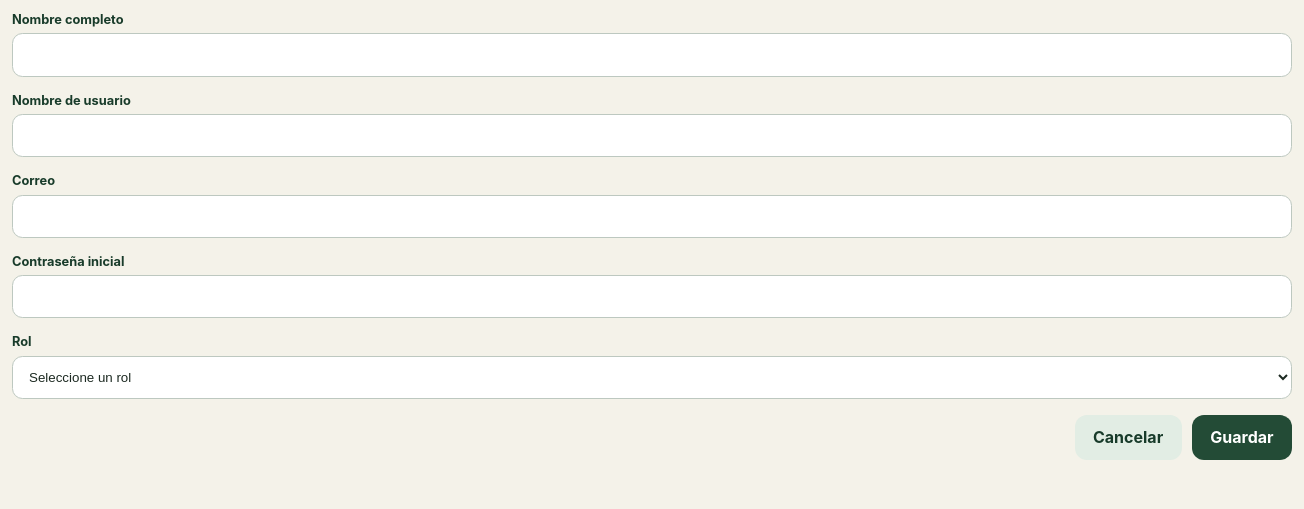
FormularioUsuario › asocia un conflicto de correo con el campo correo
Type "Usuario Prueba" into the field labelled "Nombre completo".
click(652, 55); type("Usuario Prueba")  # box [12,33,1292,77]
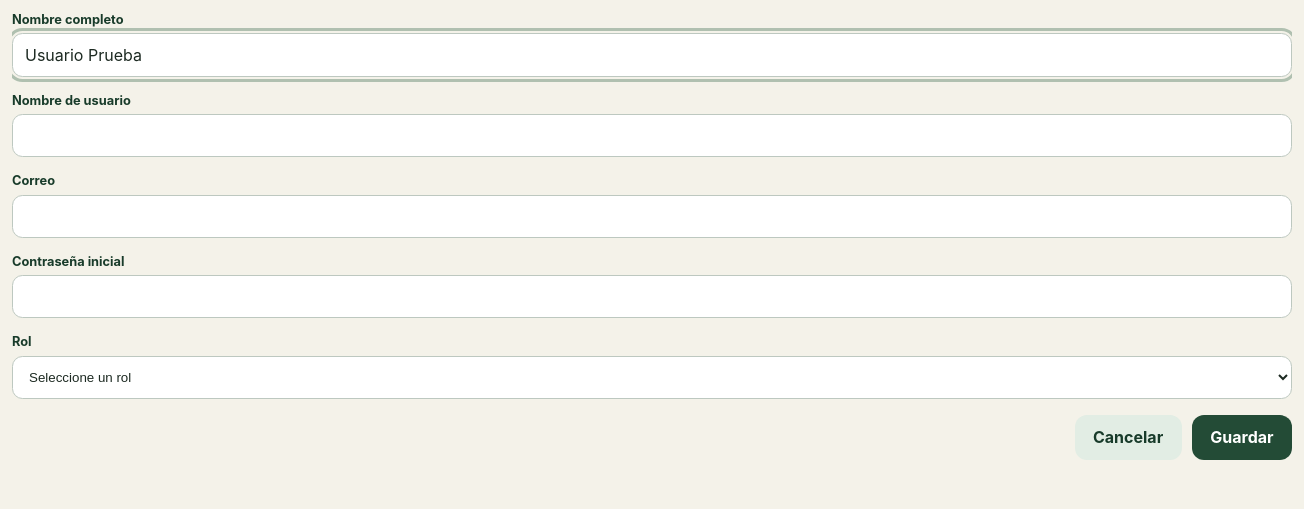
Type "usuario.prueba" into the field labelled "Nombre de usuario".
click(652, 136); type("usuario.prueba")  # box [12,114,1292,157]
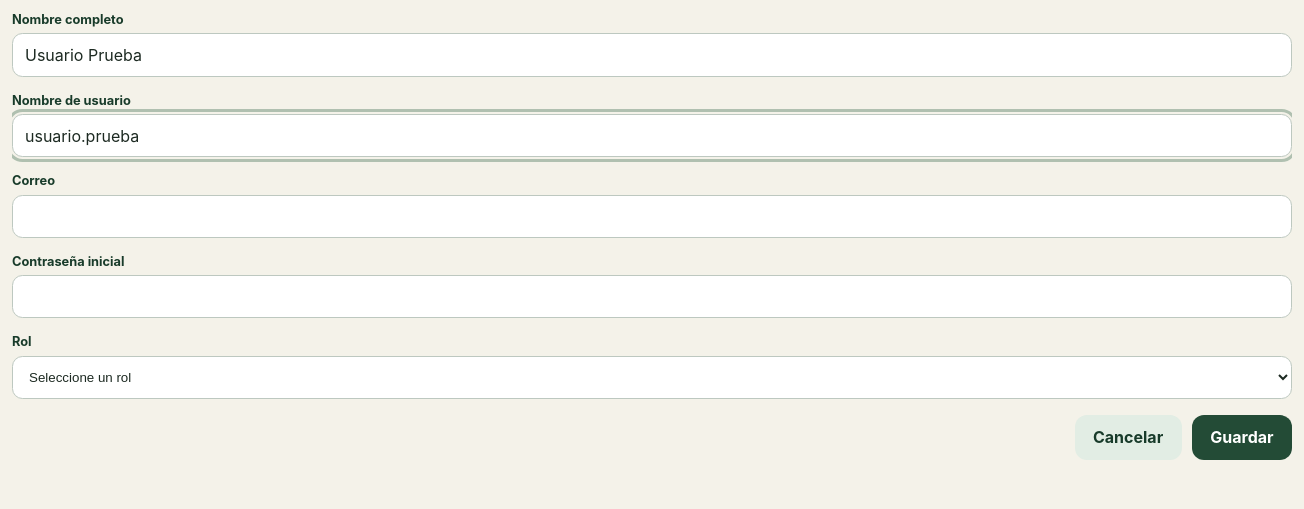
Type "usuario@example.test" into the field labelled "Correo".
click(652, 216); type("usuario@example.test")  # box [12,194,1292,238]
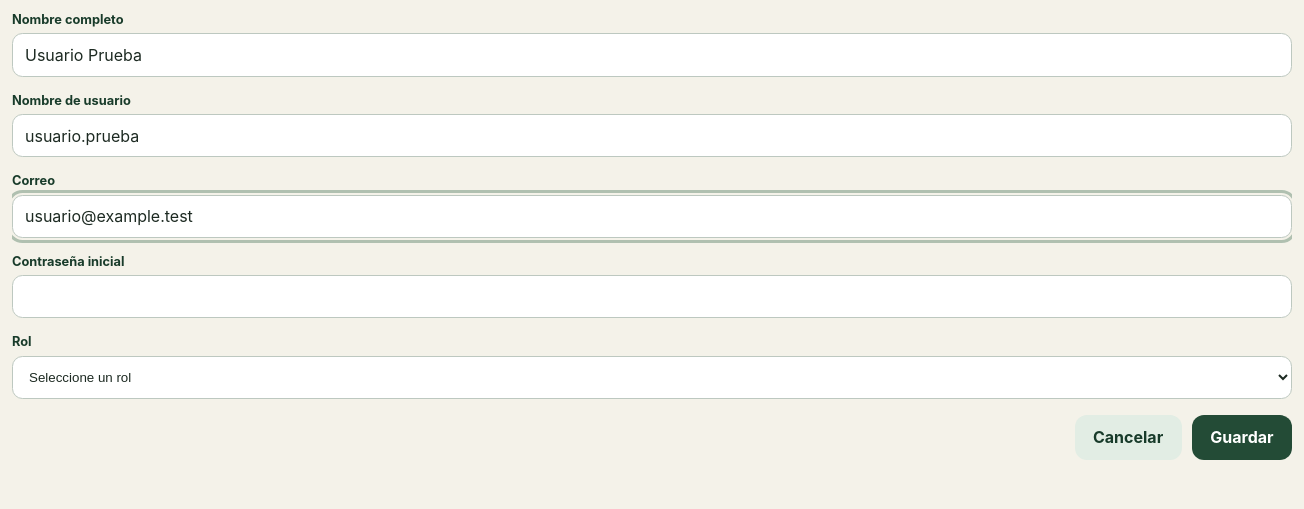
Type "contrasena-segura" into the password field labelled "Contraseña inicial".
click(652, 297); type("contrasena-segura")  # box [12,275,1292,318]
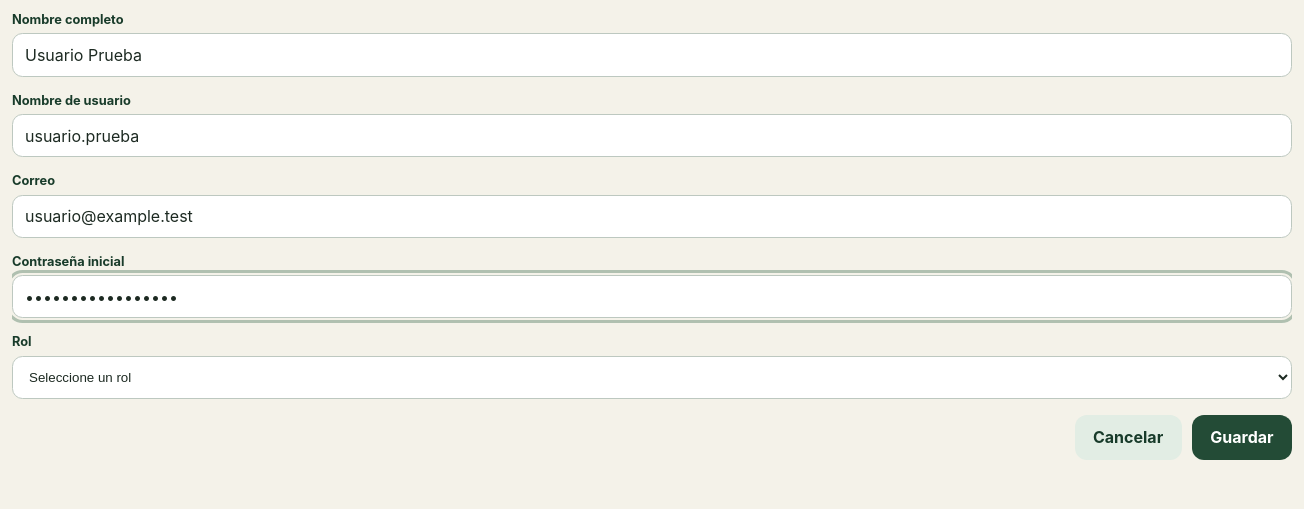
Select "OPERADOR" in the dropdown labelled "Rol" at x=652, y=377, box [12,356,1292,399]
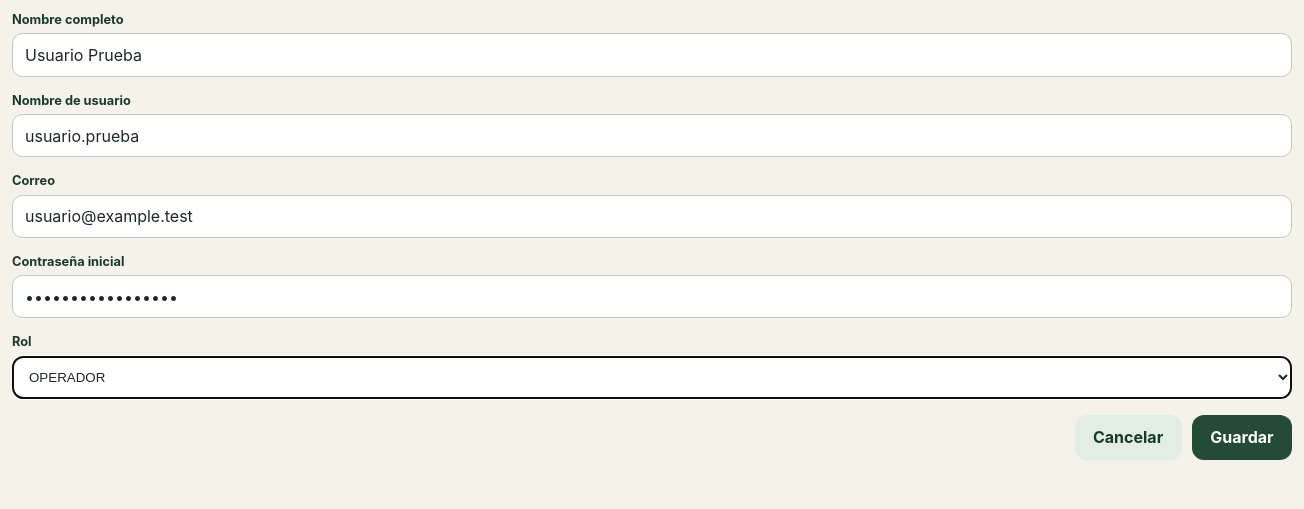
Click the button "Guardar".
click(1242, 437)  # box [1192,415,1292,460]
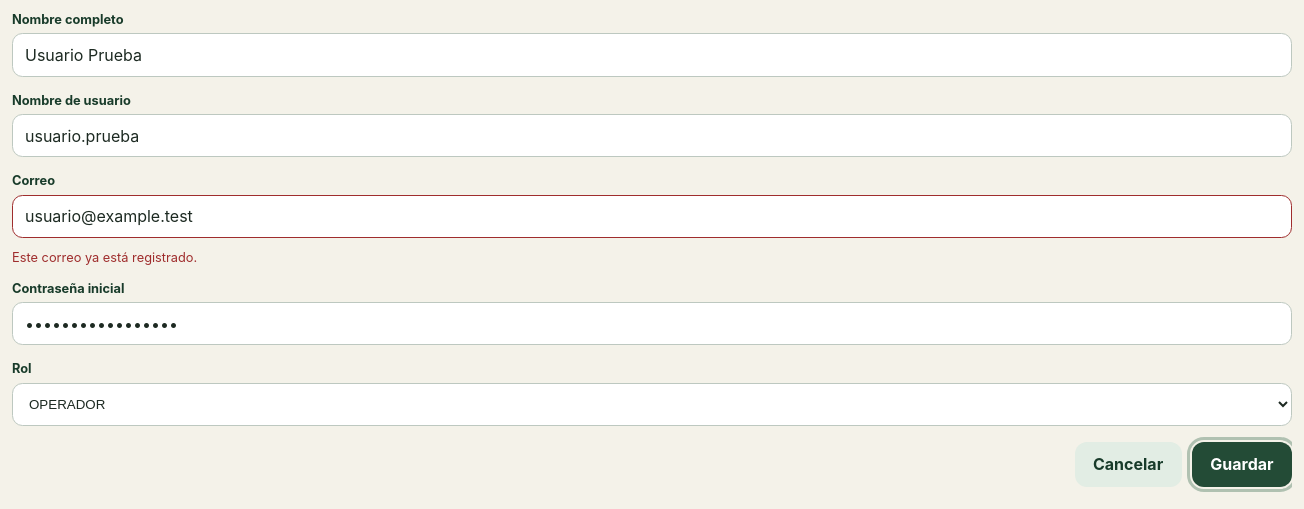
Expected: the text "Este correo ya está registrado." is shown, [12,250,197,265]
